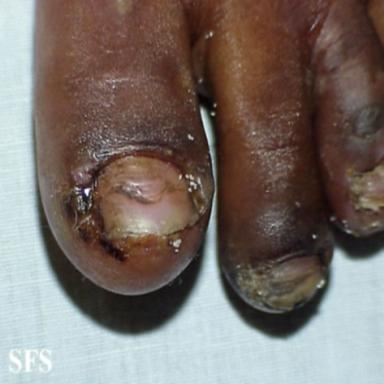Tungiasis: (63, 159, 127, 260), (234, 256, 327, 313), (332, 167, 384, 246), (184, 155, 214, 226), (169, 238, 181, 253), (179, 173, 182, 180)
